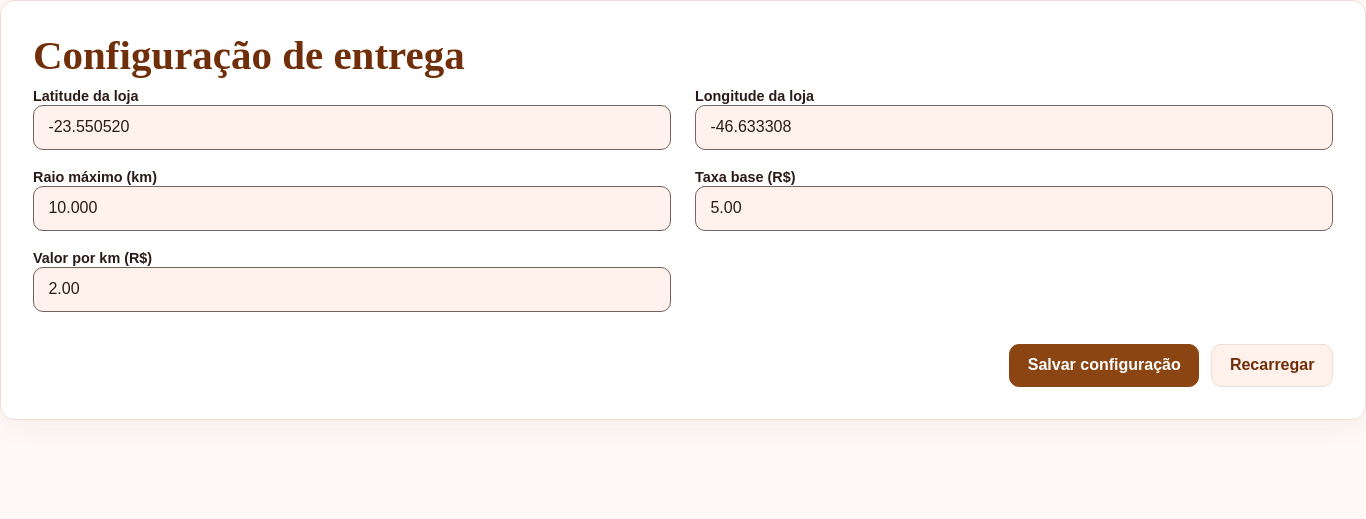
Test case: configuração carregada apresenta os cinco valores normalmente
This screenshot has width=1366, height=519.
Expected: the field labelled "Latitude da loja" holds "-23.550520", 33,105 -> 671,150
Expected: the field labelled "Longitude da loja" holds "-46.633308", 695,105 -> 1333,150
Replace the text in the field labelled "Taxa base (R$)" with "6.00". click: (1014, 208)
box: 695,186 -> 1333,231
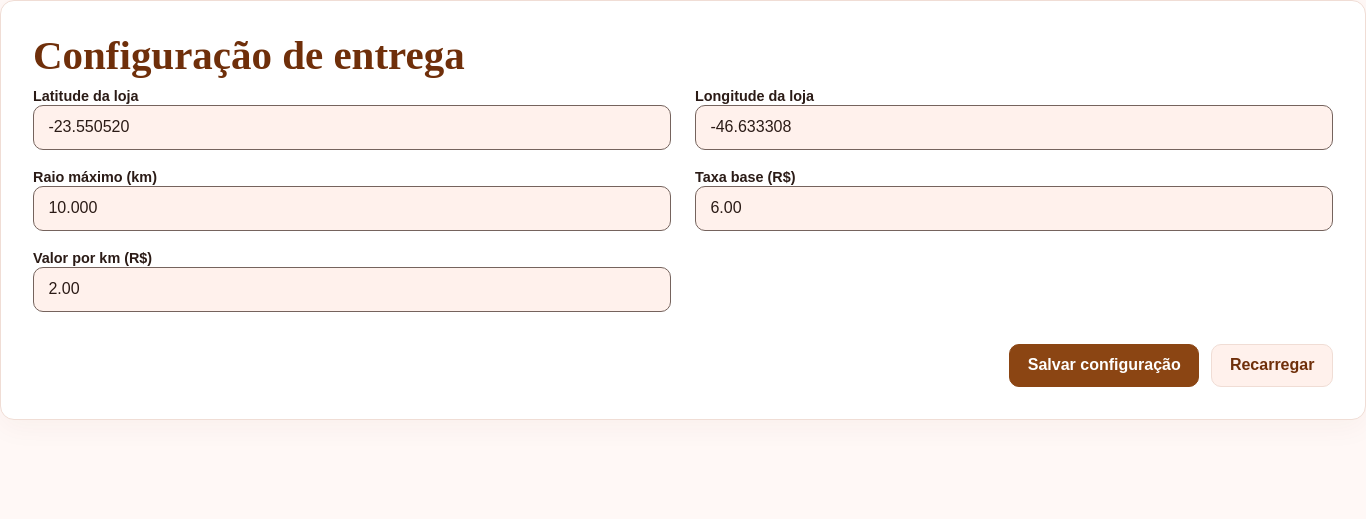
Click the button "Salvar configuração". click: (1104, 365)
box: 1009,344 -> 1199,387
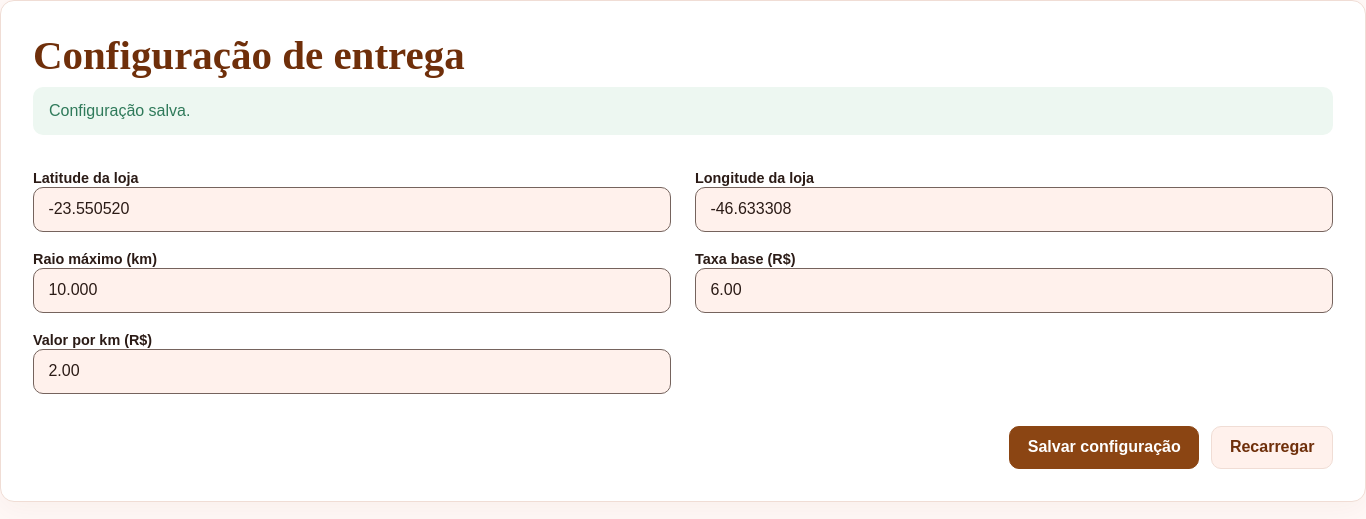
Expected: the text "Configuração salva." is shown, 33,87 -> 1333,135
